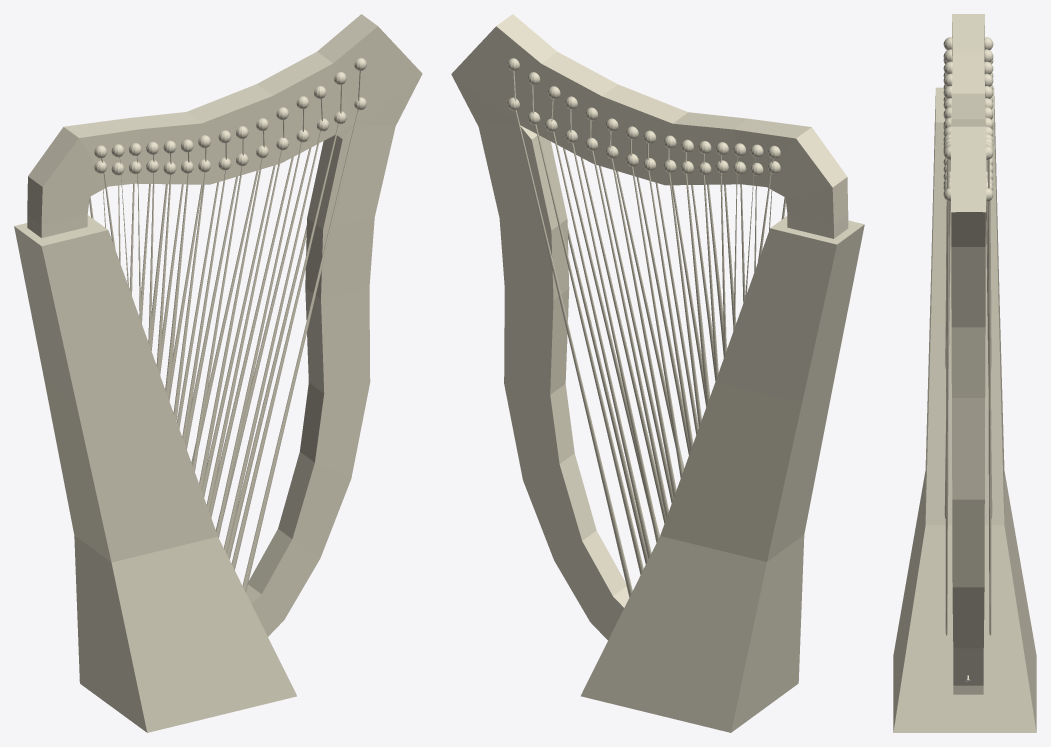
The model's file is Harpa.fbx.
3 renders of one model, left to right at view 1: azimuth 30°, elevation 25°; view 2: azimuth 150°, elevation 25°; view 3: azimuth 270°, elevation 25°, orthographic. The views are drawn at different scales.
Parts seen in each view (by area): view 1: Harpa; view 2: Harpa; view 3: Harpa.
Boxes of the visible parts, x1=… form: Harpa: x1=14, y1=14, x2=422, y2=732; Harpa: x1=451, y1=14, x2=864, y2=732; Harpa: x1=893, y1=14, x2=1036, y2=732.
Bounding box in the file's own units: 135 × 207 × 40.47.
